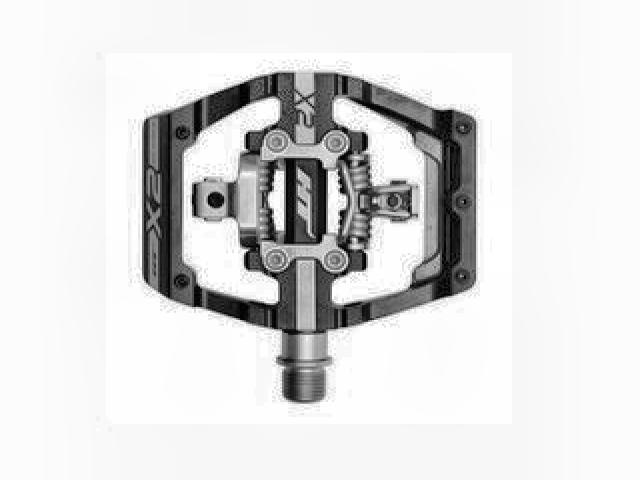pedal: (134, 65, 480, 404)
